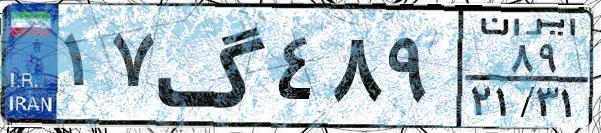1: (57, 26, 110, 100), (560, 70, 590, 125), (495, 70, 520, 125)
2: (470, 70, 495, 125)
3: (535, 70, 560, 125)
4: (270, 28, 330, 110)
7: (110, 28, 156, 98)
8: (330, 28, 385, 110), (508, 27, 537, 80)
9: (385, 28, 445, 110), (537, 27, 568, 80)
گ: (156, 12, 270, 120)
